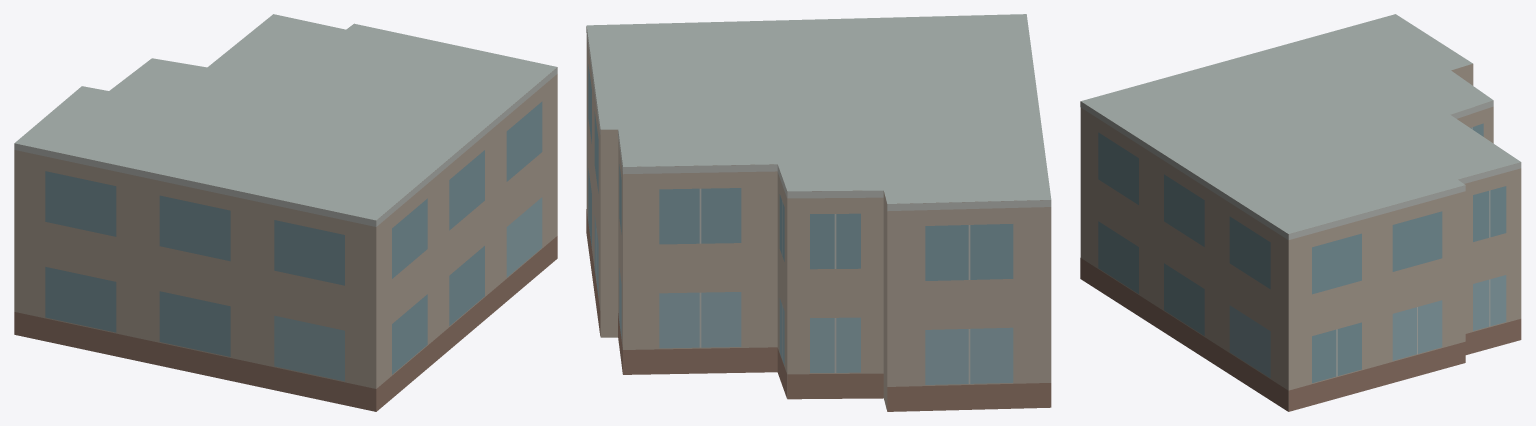
Rendered from survey-upis-32625517.glb.
The picture shows the model from 3 angles, left to right: view 1: azimuth 30°, elevation 25°; view 2: azimuth 150°, elevation 25°; view 3: azimuth 270°, elevation 25°; orthographic projection. The views are drawn at different scales.
Parts seen in each view (by area): view 1: survey-upis-32625517.tmp; view 2: survey-upis-32625517.tmp; view 3: survey-upis-32625517.tmp.
Part boxes in pixels (x1,y1,x2,y2): survey-upis-32625517.tmp: (14, 14, 557, 411); survey-upis-32625517.tmp: (586, 14, 1051, 411); survey-upis-32625517.tmp: (1080, 14, 1521, 411).
Bounding box in the file's own units: 18.86 × 7.1 × 15.97.
